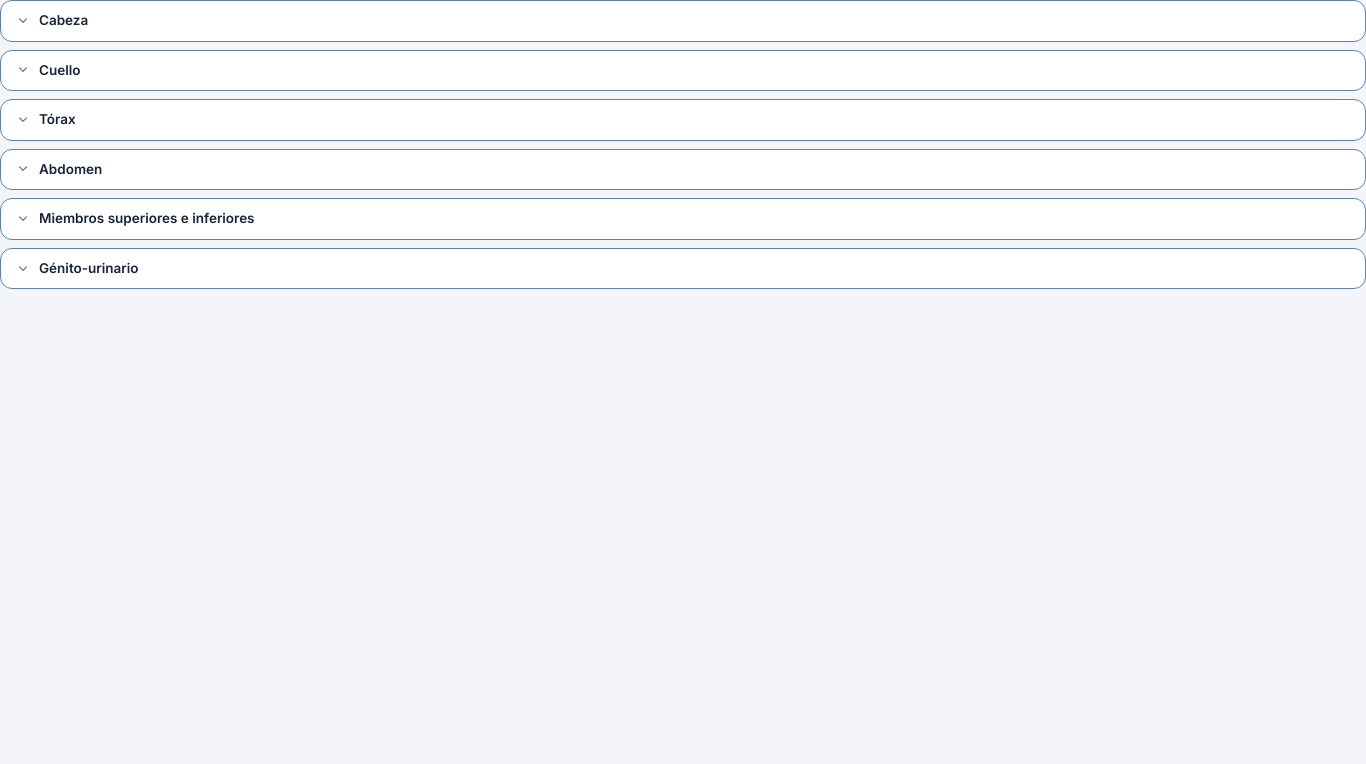
Test: StructuredExamFields › gives a general consultation its head-to-toe segments, one per accordion item
The width and height of the screenshot is (1366, 764).
Click the heading "Cabeza". click: click(52, 20)
box: [15,12,88,29]
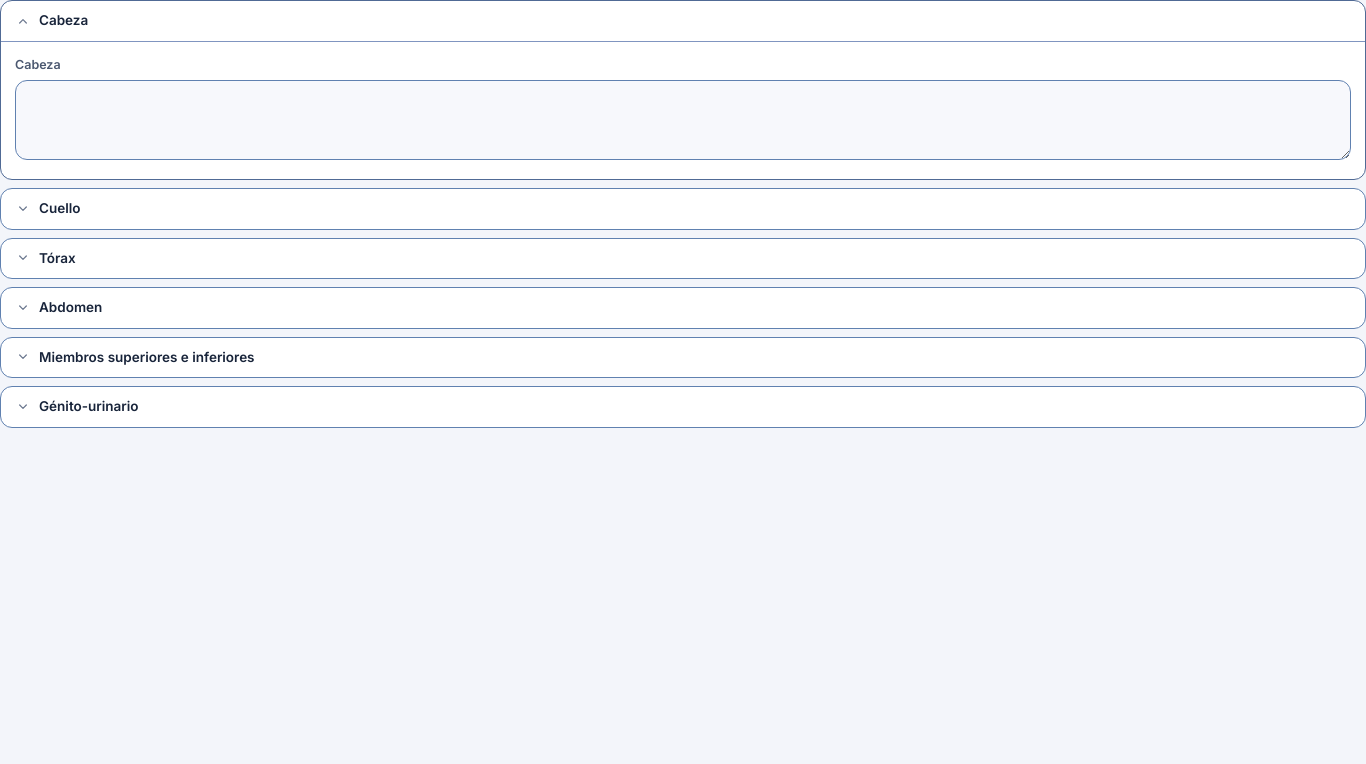
Expected: the text box labelled "Cabeza" is shown, [15,80,1351,160]
Click the heading "Cuello". click: click(48, 208)
box: [15,200,80,217]
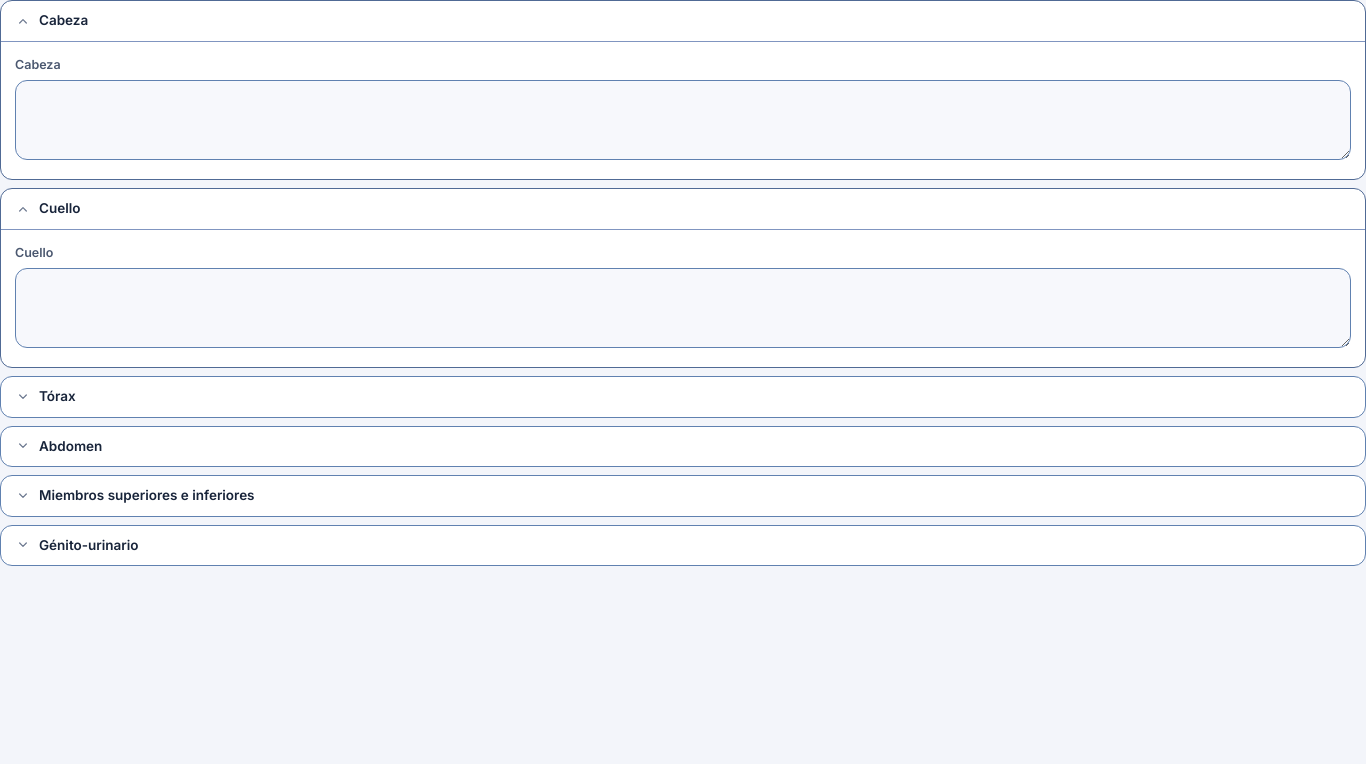
Expected: the text box labelled "Cuello" is shown, [15,268,1351,348]
Click the heading "Tórax". click: click(45, 396)
box: [15,388,76,405]
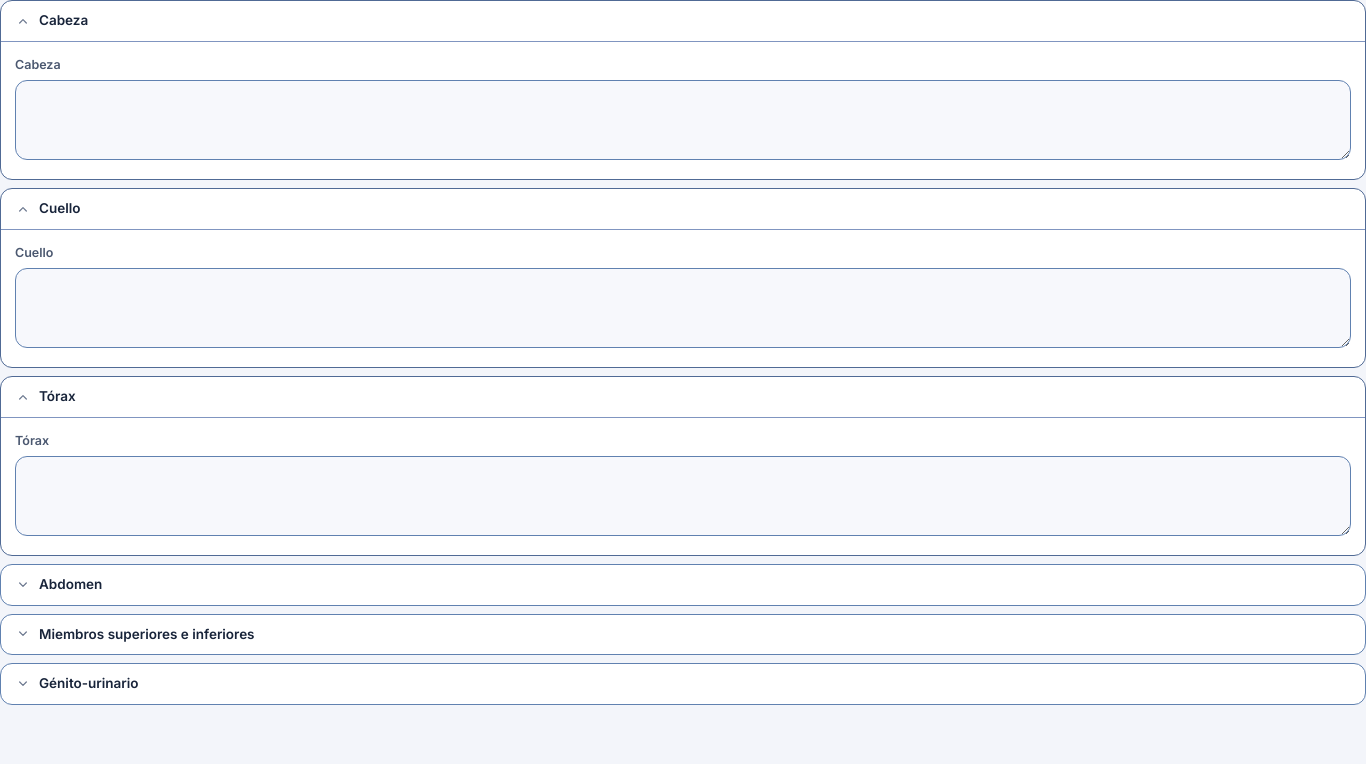
Expected: the text box labelled "Tórax" is shown, [15,456,1351,536]
Click the heading "Abdomen". click: click(59, 584)
box: [15,576,102,593]
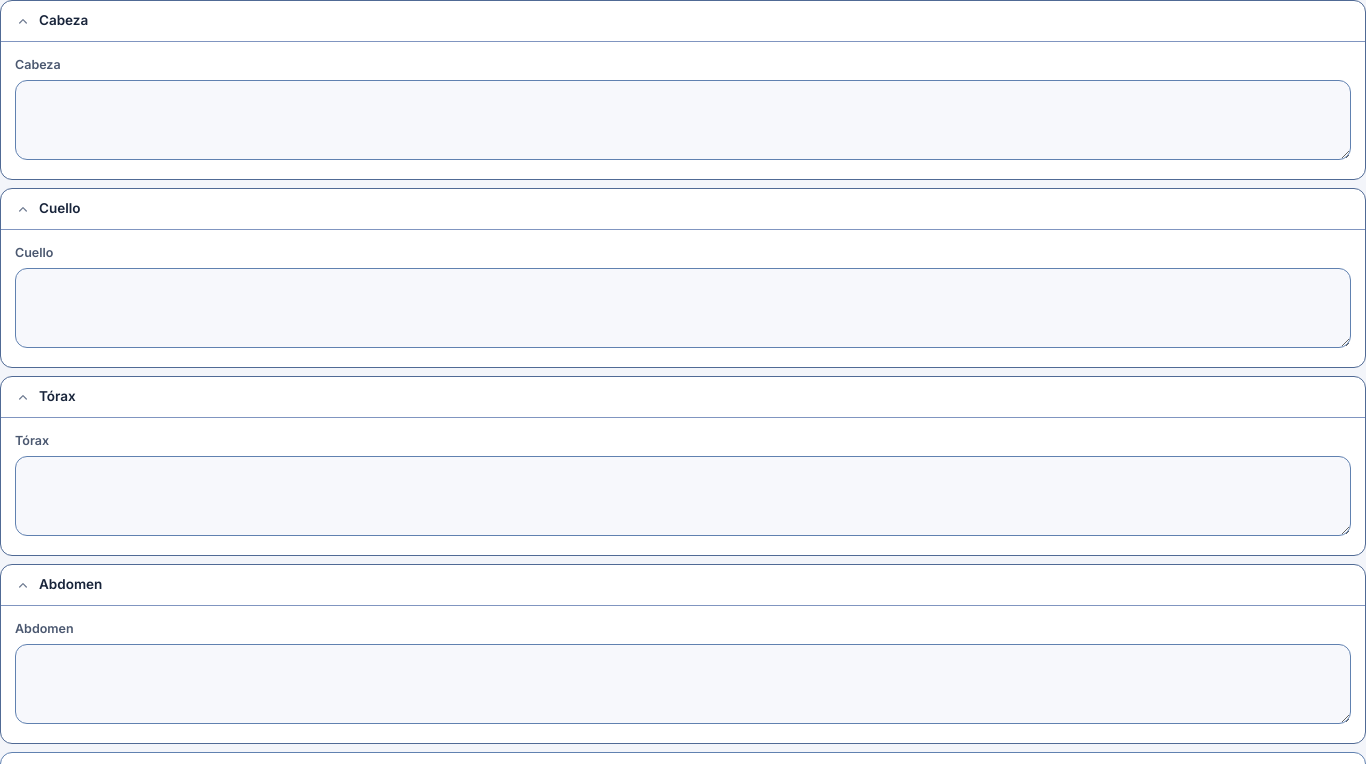
Expected: the text box labelled "Abdomen" is shown, [15,644,1351,724]
